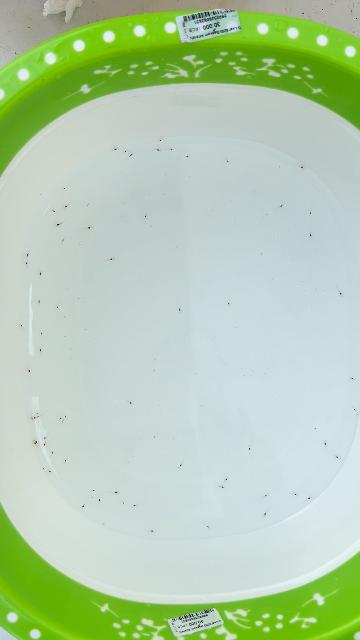benur: (129, 152, 135, 157), (63, 205, 68, 210), (336, 456, 341, 461), (129, 401, 134, 406), (54, 223, 60, 227), (300, 166, 305, 170), (114, 147, 119, 151), (62, 237, 66, 242), (25, 254, 29, 259), (221, 486, 226, 490), (308, 495, 313, 499), (178, 464, 182, 469), (349, 376, 354, 380), (340, 292, 344, 297), (279, 204, 284, 208), (170, 148, 174, 152), (32, 440, 36, 444), (98, 499, 102, 503), (81, 505, 85, 509), (151, 530, 155, 534), (207, 526, 211, 530), (262, 513, 266, 517), (294, 493, 298, 497), (227, 303, 231, 307), (186, 155, 191, 158), (159, 138, 164, 141), (88, 226, 93, 229), (110, 257, 115, 260), (144, 214, 147, 219), (39, 270, 42, 275), (27, 367, 30, 372), (43, 443, 46, 448), (324, 440, 327, 445), (248, 445, 251, 450), (179, 308, 182, 313), (310, 234, 313, 239), (227, 160, 230, 164), (157, 149, 161, 152), (63, 187, 67, 190), (51, 209, 55, 212), (38, 299, 41, 303), (19, 323, 22, 327), (40, 331, 43, 335), (39, 347, 42, 351), (34, 417, 37, 421), (64, 414, 67, 418), (62, 418, 65, 422), (34, 439, 37, 443), (115, 491, 119, 494), (131, 504, 135, 507), (265, 493, 269, 496), (223, 479, 227, 482), (354, 408, 357, 412), (308, 212, 311, 216), (26, 260, 28, 265), (56, 305, 58, 310), (64, 459, 66, 464), (124, 150, 127, 153), (86, 204, 89, 207), (79, 241, 82, 244), (30, 416, 33, 419), (59, 417, 62, 420), (43, 437, 46, 440), (48, 469, 51, 472), (93, 489, 96, 492), (91, 496, 94, 499), (122, 502, 125, 505), (103, 522, 106, 525), (356, 413, 359, 416), (36, 416, 40, 418), (51, 451, 53, 455), (37, 412, 39, 414), (43, 467, 45, 469), (70, 237, 71, 239)
